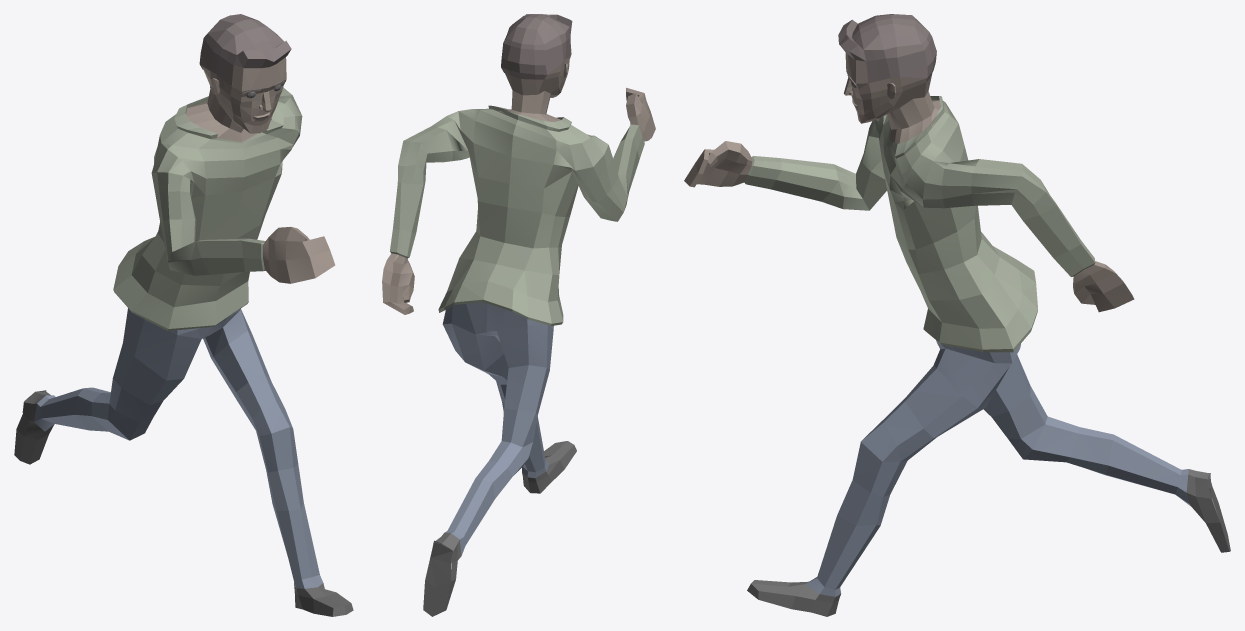
File: run_7.glb
The picture shows the model from 3 angles, left to right: view 1: azimuth 30°, elevation 25°; view 2: azimuth 150°, elevation 25°; view 3: azimuth 270°, elevation 25°; orthographic projection. The views are drawn at different scales.
Parts seen in each view (by area): view 1: BaseHuman_baked; view 2: BaseHuman_baked; view 3: BaseHuman_baked.
Boxes of the visible parts, left/top/right/bottom form: BaseHuman_baked: left=14, top=14, right=353, bottom=616; BaseHuman_baked: left=382, top=14, right=655, bottom=616; BaseHuman_baked: left=684, top=14, right=1230, bottom=616.
Size of the model in its own units: 1.42 by 4.4 by 3.77.
